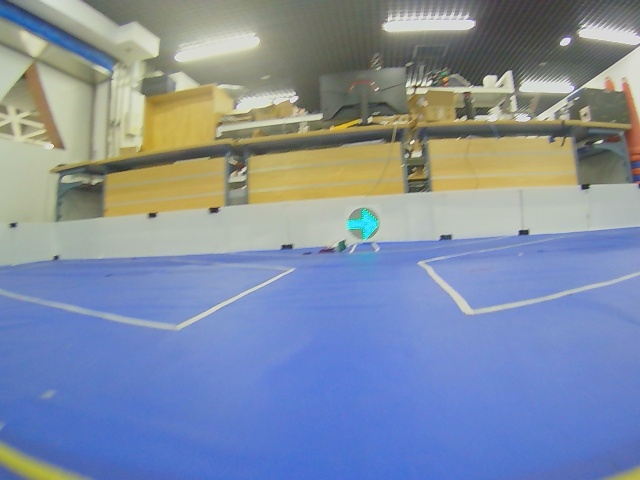right_green: (346, 208, 380, 241)
